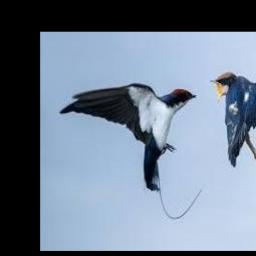Swallow: (60, 82, 197, 191), (211, 71, 256, 166)
